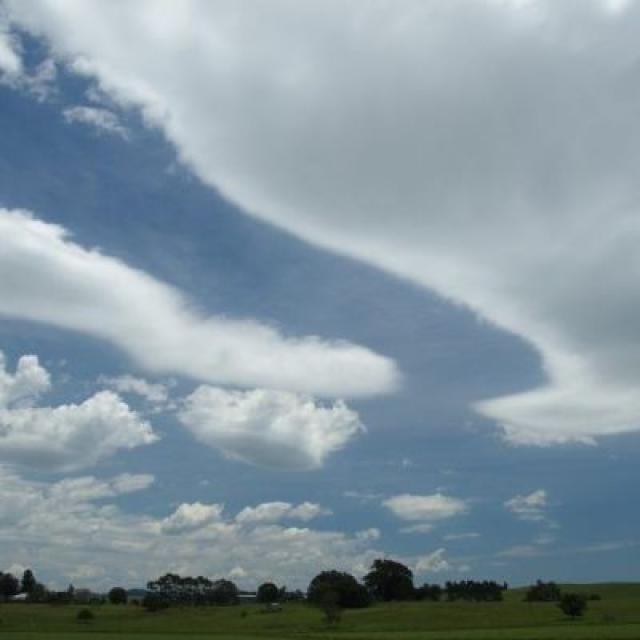Ac: (1, 48, 640, 493)
